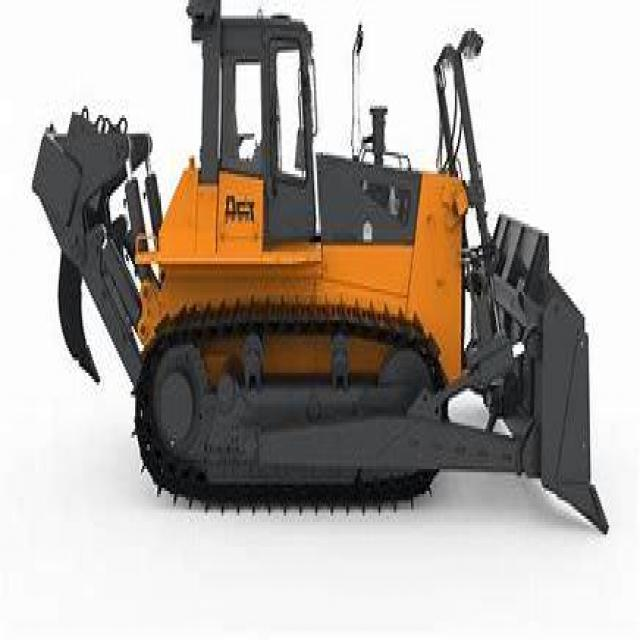Bulldozer: (32, 3, 620, 553)
